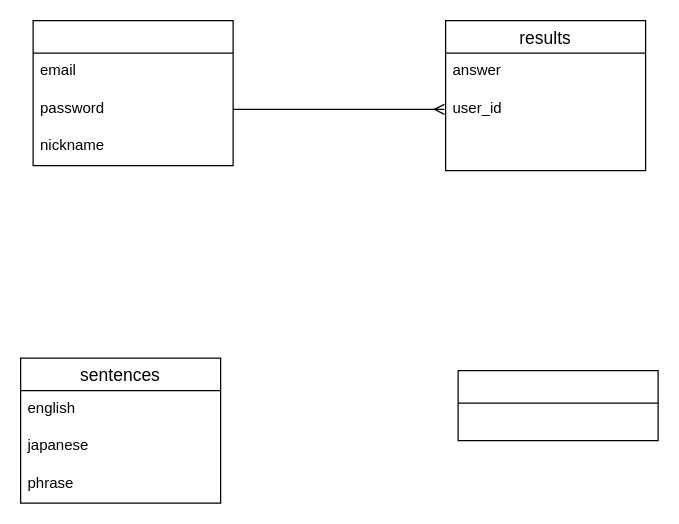
Image size: 679x524. Some labels were removed from this diagram. Here are the shapes that lost their labels. From the top down, the box of each, then its label:
(32, 19, 233, 166): users
(457, 369, 658, 441): descriptions
